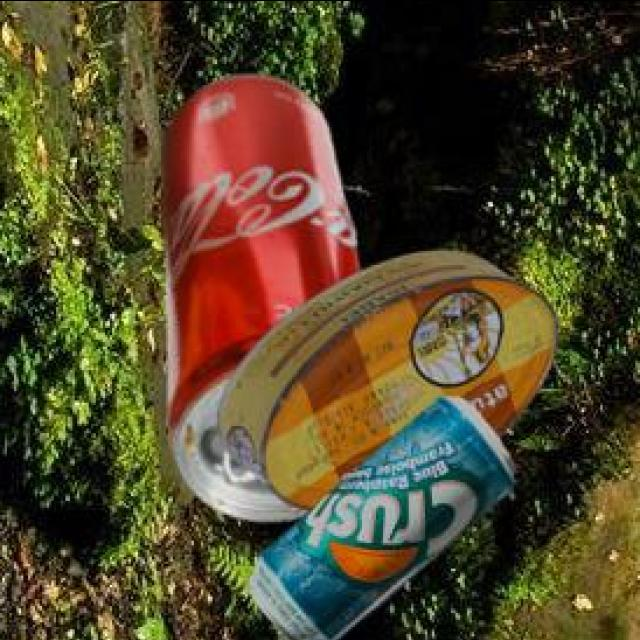logam: (221, 246, 562, 506), (167, 71, 363, 517), (249, 391, 520, 640)
